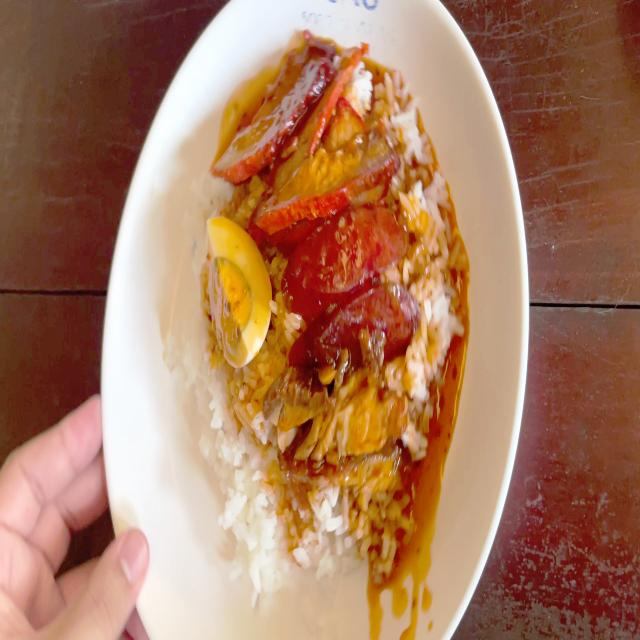boiled_egg: (208, 217, 270, 367)
chainese_sausage: (293, 205, 408, 348)
crispy_pork: (271, 389, 409, 496)
red_pork: (228, 57, 388, 201)
red_pork_and_crispy_pork: (179, 52, 454, 564)
rice: (197, 377, 272, 567)
